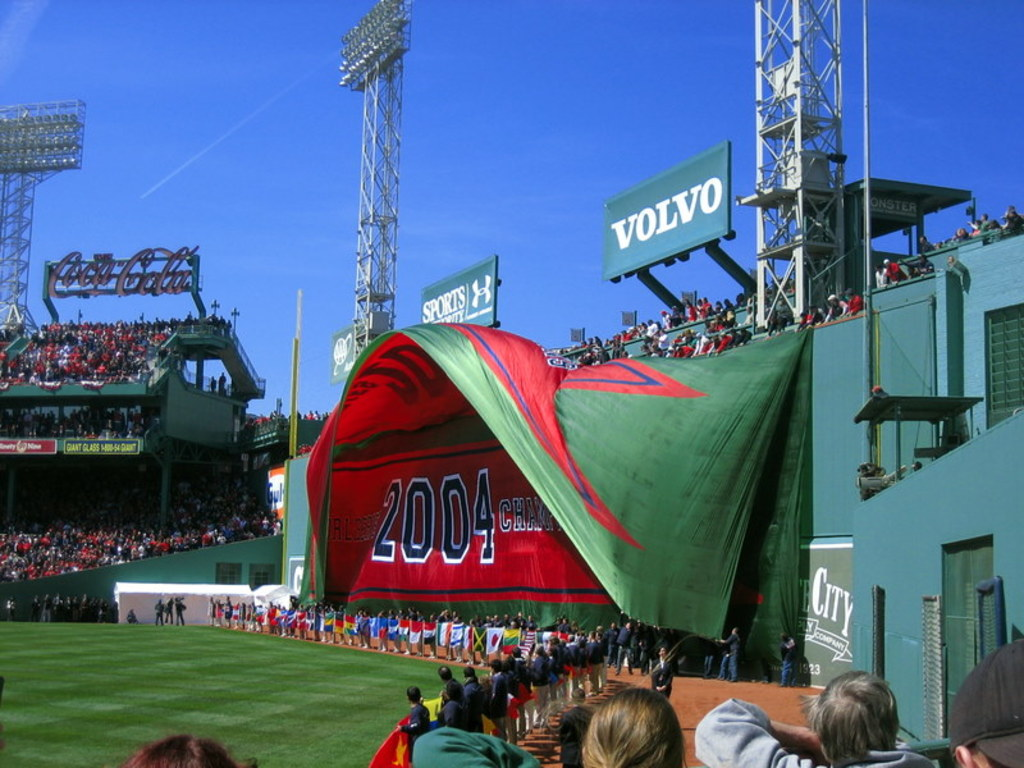Human_hand: (396, 723, 403, 732)
